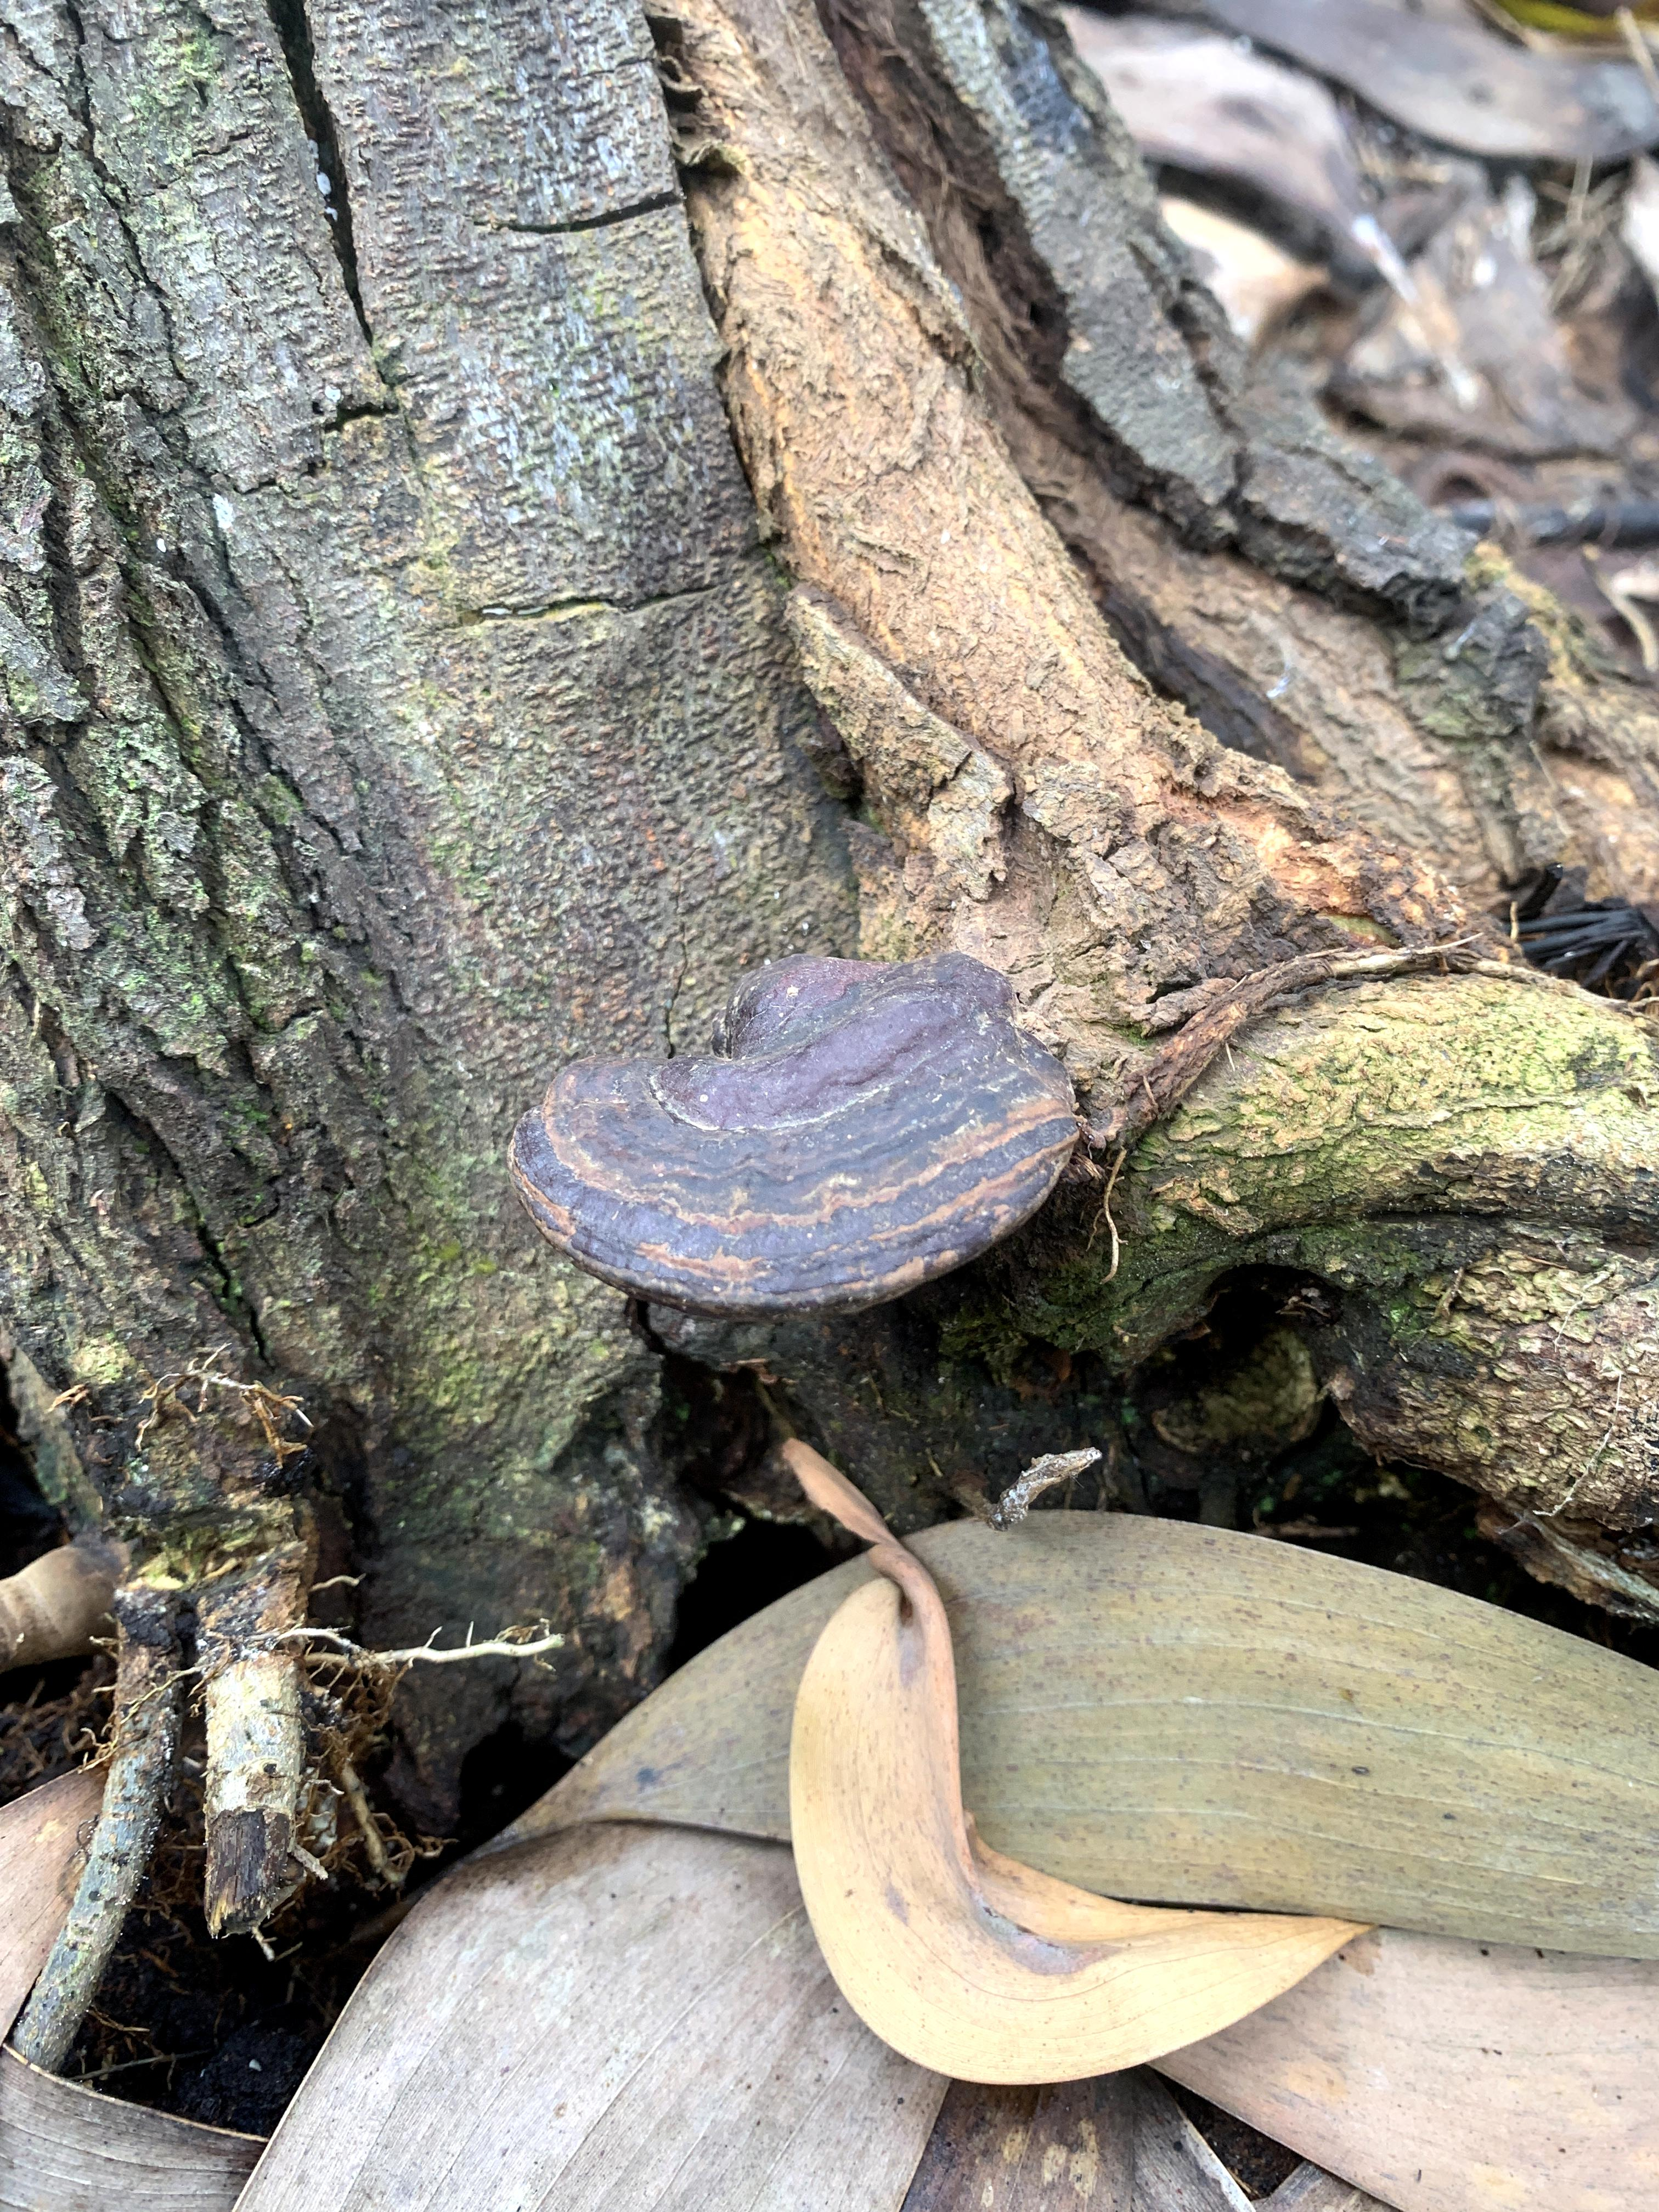Ganoderma - Fruit Body: (511, 967, 1073, 1305)
